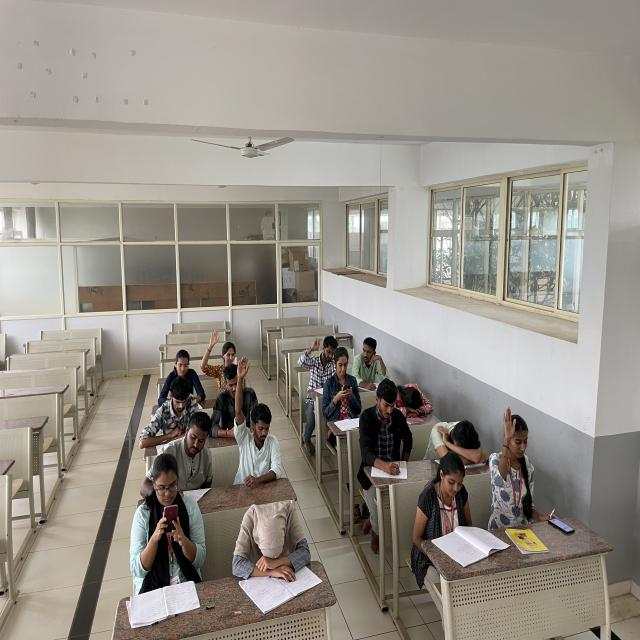Hand Rising: (230, 354, 282, 477), (491, 406, 540, 508), (202, 331, 242, 385), (298, 338, 340, 387)
Reading: (422, 453, 506, 553)
Sleeping: (231, 496, 313, 572), (428, 416, 493, 462), (391, 382, 435, 421)
Using Phone: (132, 457, 211, 573), (322, 348, 360, 412)
Writing: (355, 378, 406, 477), (354, 338, 391, 390)
